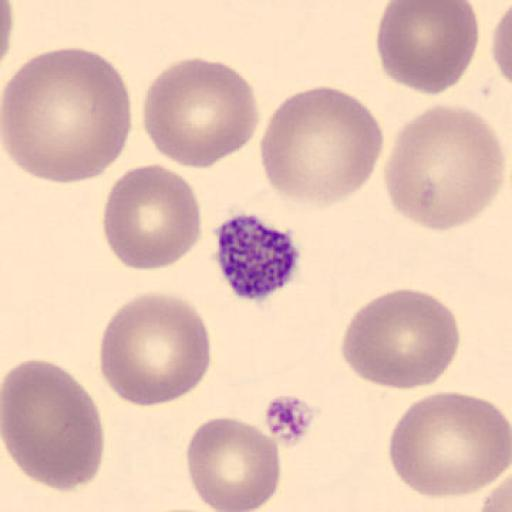Platelet: (211, 209, 305, 304), (260, 392, 320, 450)
RBC: (0, 46, 132, 187), (383, 102, 506, 232), (259, 85, 385, 207), (1, 357, 106, 494), (386, 390, 511, 500), (141, 56, 260, 170), (98, 290, 212, 408), (340, 287, 462, 391), (101, 162, 203, 272), (375, 0, 480, 96), (184, 414, 282, 512), (490, 0, 512, 90), (477, 474, 511, 512), (0, 0, 16, 79)
